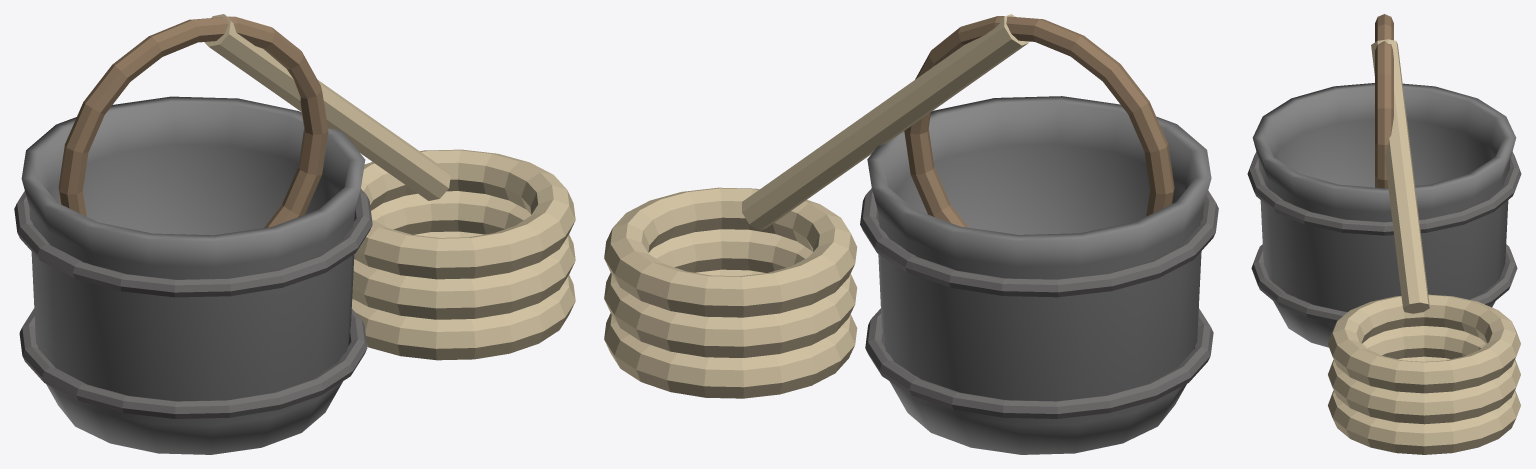
The model's file is bucket-rope.glb.
3 renders of one model, left to right at view 1: azimuth 30°, elevation 25°; view 2: azimuth 150°, elevation 25°; view 3: azimuth 270°, elevation 25°, orthographic. The views are drawn at different scales.
Visible parts, largest first — view 1: bucket, coil, coil.002, handle, coil.001, ropefall, band, band.001; view 2: bucket, coil, coil.002, ropefall, handle, coil.001, band, band.001; view 3: bucket, coil, coil.002, coil.001, ropefall, band, handle, band.001.
Part boxes in pixels (x1,y1,x2,y2): bucket: [21, 96, 365, 454]; coil: [354, 149, 575, 279]; coil.002: [352, 191, 575, 319]; handle: [58, 16, 328, 227]; coil.001: [351, 231, 575, 360]; ropefall: [204, 14, 450, 200]; band: [14, 189, 372, 297]; band.001: [19, 308, 367, 418]; bucket: [867, 96, 1211, 454]; coil: [604, 187, 857, 317]; coil.002: [604, 229, 857, 357]; ropefall: [742, 14, 1028, 230]; handle: [904, 16, 1174, 227]; coil.001: [604, 269, 857, 398]; band: [860, 188, 1218, 297]; band.001: [865, 308, 1213, 418]; bucket: [1252, 83, 1516, 347]; coil: [1328, 294, 1520, 393]; coil.002: [1328, 326, 1520, 424]; coil.001: [1328, 356, 1520, 454]; ropefall: [1371, 39, 1429, 313]; band: [1247, 151, 1521, 235]; handle: [1375, 14, 1393, 188]; band.001: [1251, 244, 1517, 323].
Size of the model in its own units: 1.2 by 0.806 by 0.686.
4 materials, 1 textured.
